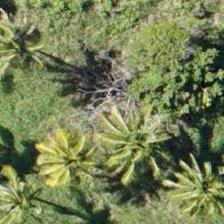coconut_tree: (23, 116, 113, 206), (83, 102, 173, 192), (160, 138, 223, 223), (0, 155, 54, 223)
